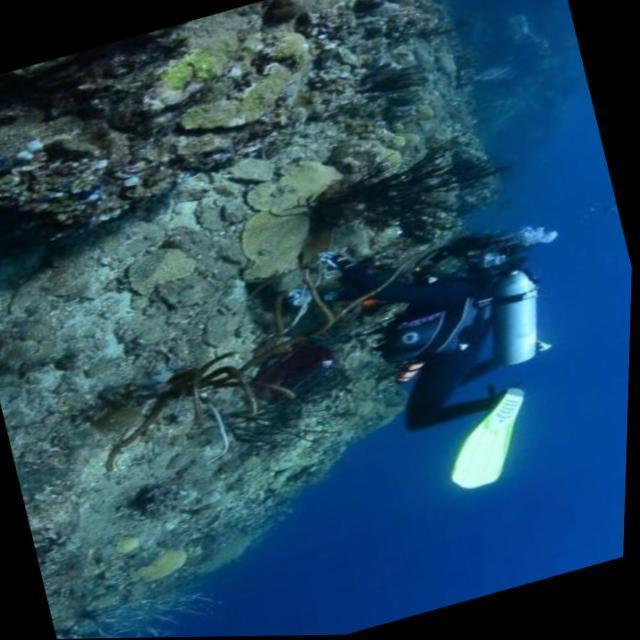Dead Coral: (1, 78, 142, 230)
